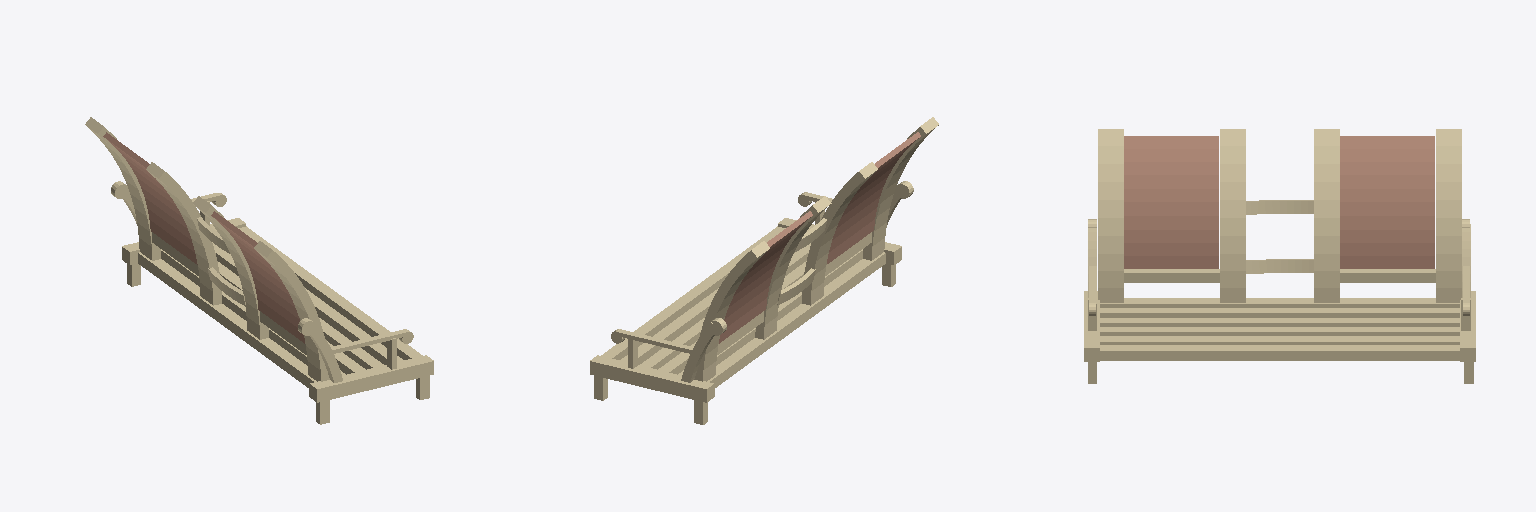
Rendered from chair.obj.
The picture shows the model from 3 angles: view 1: azimuth 30°, elevation 25°; view 2: azimuth 150°, elevation 25°; view 3: azimuth 270°, elevation 25°; orthographic projection.
Visible parts, largest first — view 1: ???.4, ???.2_1, ???.2_2, ???.1_2, ???.1_3, ???.11, ???.1_4, ???_1, ???_2, ???.10, ???.9, ???.7 (+3 smaller); view 2: ???.4, ???.2_2, ???.2_1, ???, ???_2, ???.11, ???_1, ???.1_4, ???.1_3, ???.10, ???.9, ???.7 (+3 smaller); view 3: ???.2_1, ???.2_2, ???.11, ???.1_3, ???_2, ???.1_4, ???_1, ???.7, ???.10, ???.9, ???.8, ???.4 (+6 smaller).
Boxes of the visible parts, <box> form: ???.4: <box>138,252,316,387</box>; ???.2_1: <box>103,132,197,264</box>; ???.2_2: <box>211,211,304,343</box>; ???.1_2: <box>309,355,433,402</box>; ???.1_3: <box>146,162,221,305</box>; ???.11: <box>238,226,422,359</box>; ???.1_4: <box>254,241,329,381</box>; ???_1: <box>85,117,160,260</box>; ???_2: <box>193,196,268,339</box>; ???.10: <box>305,288,403,364</box>; ???.9: <box>212,242,383,369</box>; ???.7: <box>161,249,345,375</box>; ???.4: <box>707,252,885,387</box>; ???.2_2: <box>827,132,920,263</box>; ???.2_1: <box>719,211,812,343</box>; ???: <box>590,355,714,402</box>; ???_2: <box>802,162,877,305</box>; ???.11: <box>601,226,785,359</box>; ???_1: <box>694,241,769,381</box>; ???.1_4: <box>863,117,938,260</box>; ???.1_3: <box>755,196,831,339</box>; ???.10: <box>620,288,718,364</box>; ???.9: <box>640,243,810,369</box>; ???.7: <box>678,249,862,375</box>; ???.2_1: <box>1340,136,1434,268</box>; ???.2_2: <box>1124,136,1218,268</box>; ???.11: <box>1100,345,1459,360</box>; ???.1_3: <box>1314,129,1339,302</box>; ???_2: <box>1220,129,1245,302</box>; ???.1_4: <box>1098,129,1123,302</box>; ???_1: <box>1436,129,1461,302</box>; ???.7: <box>1100,308,1459,317</box>; ???.10: <box>1100,336,1459,344</box>; ???.9: <box>1100,327,1459,335</box>; ???.8: <box>1100,318,1459,326</box>; ???.4: <box>1100,298,1459,307</box>.
Size of the model in its own units: 86.19 by 92.87 by 182.